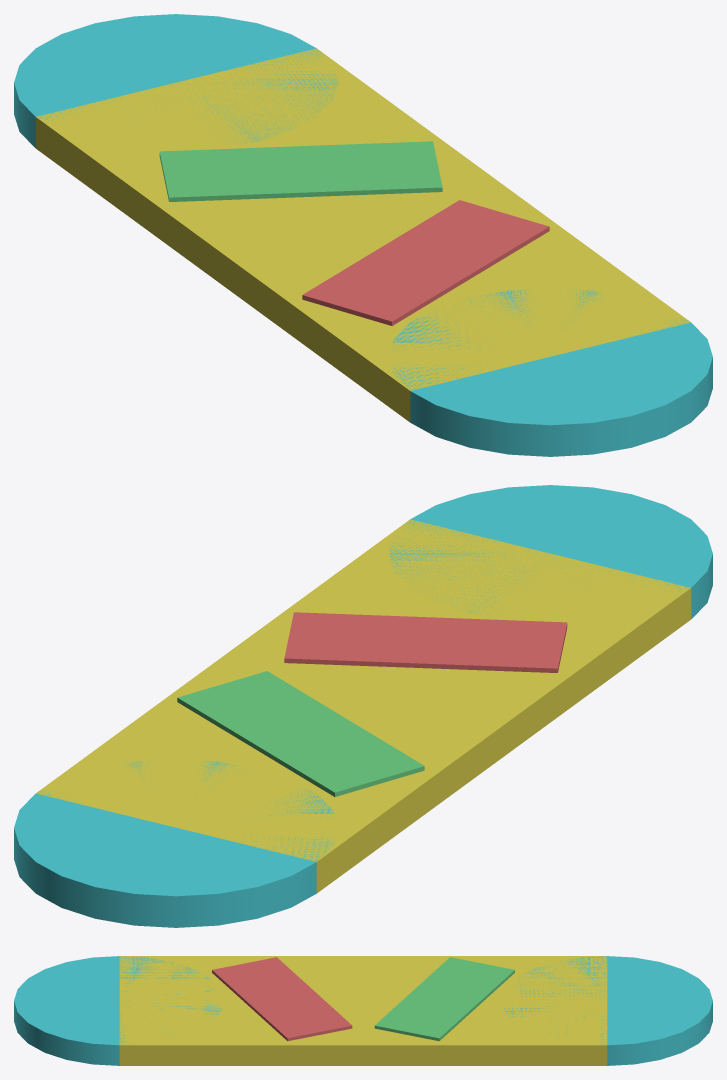
The model's file is 02_hoverboard.glb.
3 views of the same model, one above another, from view 1: azimuth 30°, elevation 25°; view 2: azimuth 150°, elevation 25°; view 3: azimuth 270°, elevation 25° (orthographic). The views are drawn at different scales.
Parts seen in each view (by area): view 1: Hoverboard; view 2: Hoverboard; view 3: Hoverboard.
Part boxes in pixels (bbox=[...]): Hoverboard: bbox=[14, 14, 712, 456]; Hoverboard: bbox=[14, 485, 712, 927]; Hoverboard: bbox=[14, 956, 712, 1065].
Bounding box in the file's own units: 0.65 × 0.145 × 2.15.
